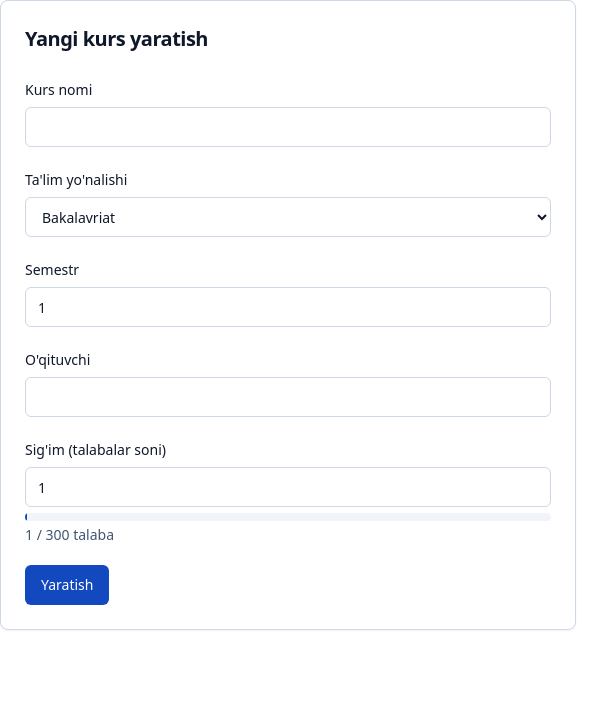
Test: CourseCreateForm › enforces the MASTER limit of 30 (Req 11.5)
In the field labelled "Kurs nomi": (288, 127) top-left (25, 107), bottom-right (551, 147), type "Tadqiqot"
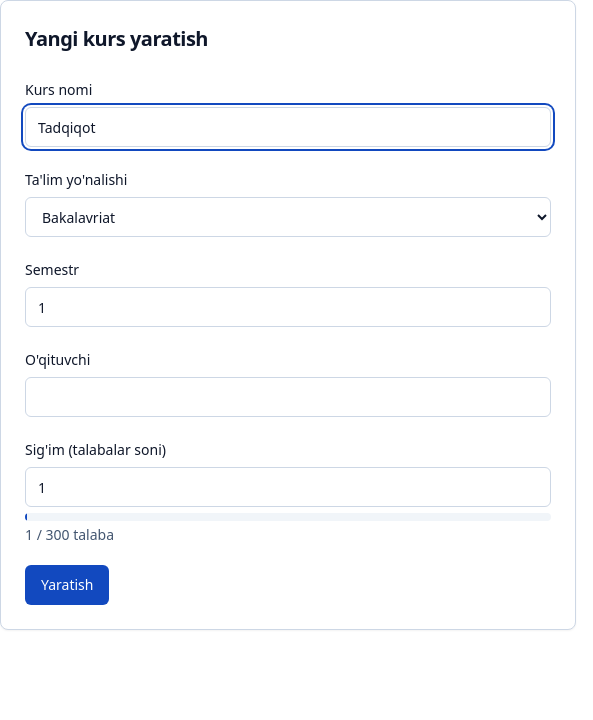
In the field labelled "O'qituvchi": (288, 397) top-left (25, 377), bottom-right (551, 417), type "Saidova"
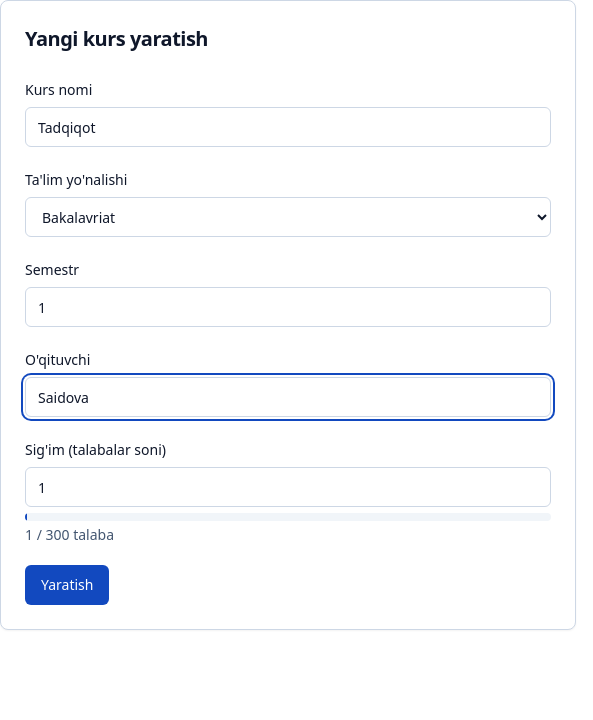
Select "Magistratura" in the dropdown labelled "Ta'lim yo'nalishi": (288, 217) top-left (25, 197), bottom-right (551, 237)
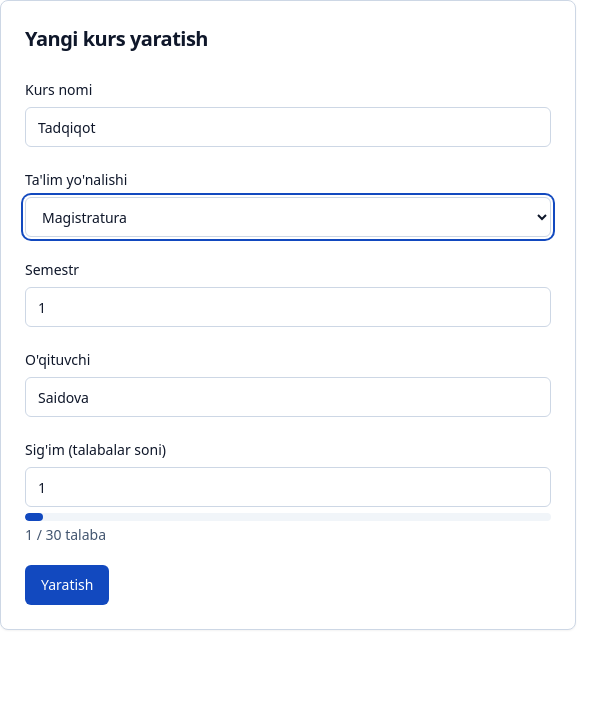
Replace the text in the number field labelled "Sig'im (talabalar soni)" with "31": (288, 487) top-left (25, 467), bottom-right (551, 507)
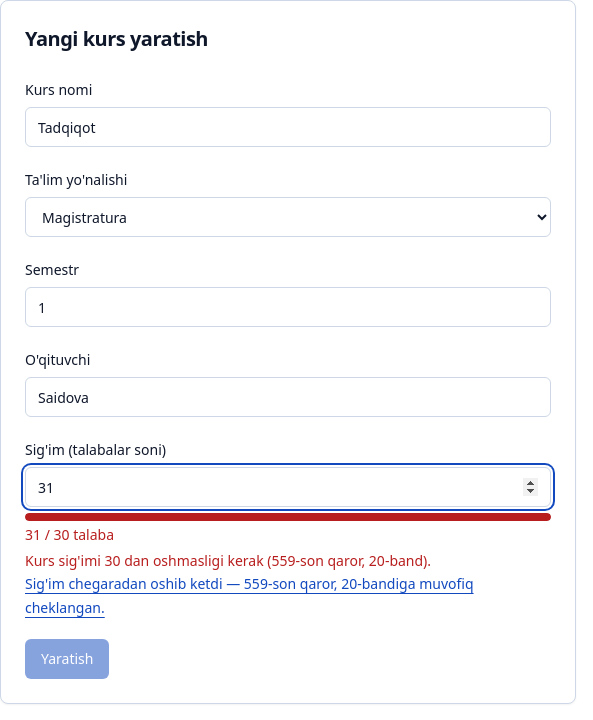
Now the button "Yaratish" is disabled, box top-left (25, 639), bottom-right (110, 679)
